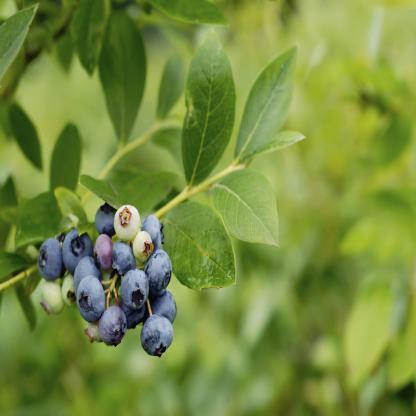Blueberry leaf: (175, 24, 237, 185), (232, 41, 307, 162), (161, 206, 240, 296), (210, 166, 284, 252)
